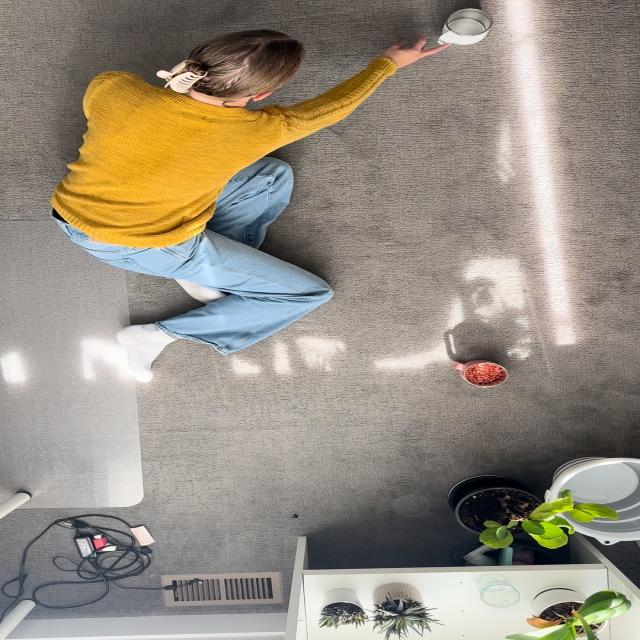IBC: (438, 8, 492, 45), (452, 360, 507, 387)
